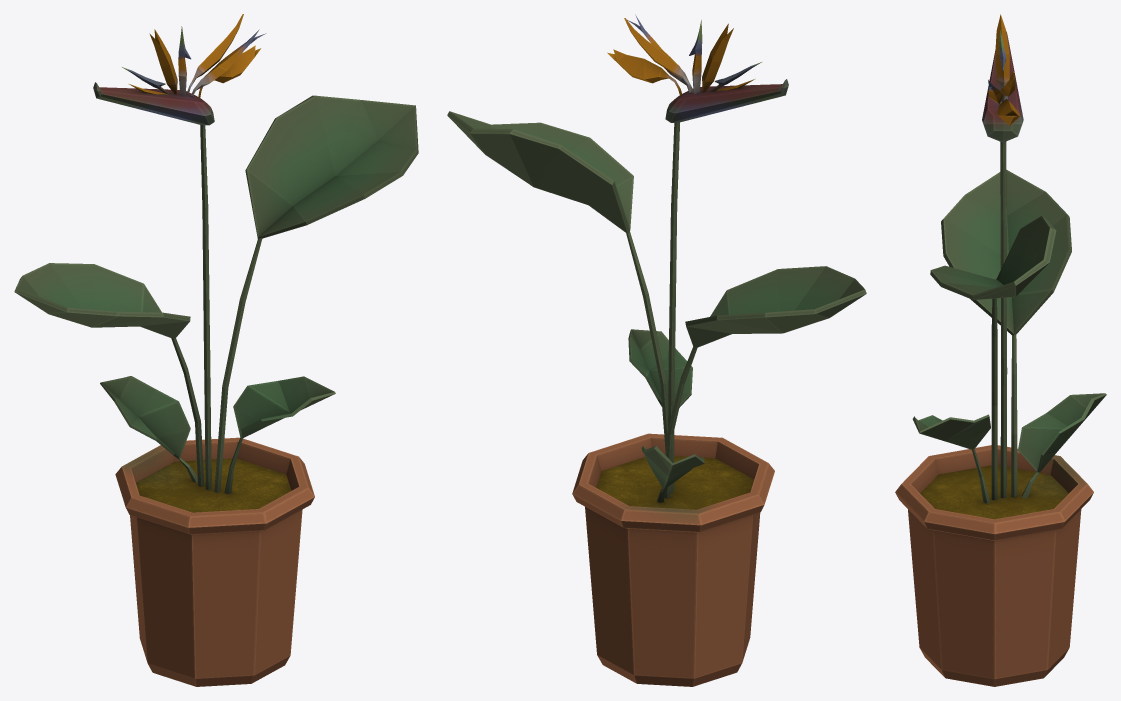
File: BirdsOfParadisePottedPlant.gltf
The picture shows the model from 3 angles, left to right: view 1: azimuth 30°, elevation 25°; view 2: azimuth 150°, elevation 25°; view 3: azimuth 270°, elevation 25°; orthographic projection. The views are drawn at different scales.
Parts seen in each view (by area): view 1: node-0; view 2: node-0; view 3: node-0.
Boxes of the visible parts, x1,y1,x2,y2 form: node-0: [14, 14, 418, 686]; node-0: [447, 14, 866, 686]; node-0: [895, 14, 1106, 686].
Size of the model in its own units: 3.58 by 5.37 by 1.67.
1 material, 1 textured.
